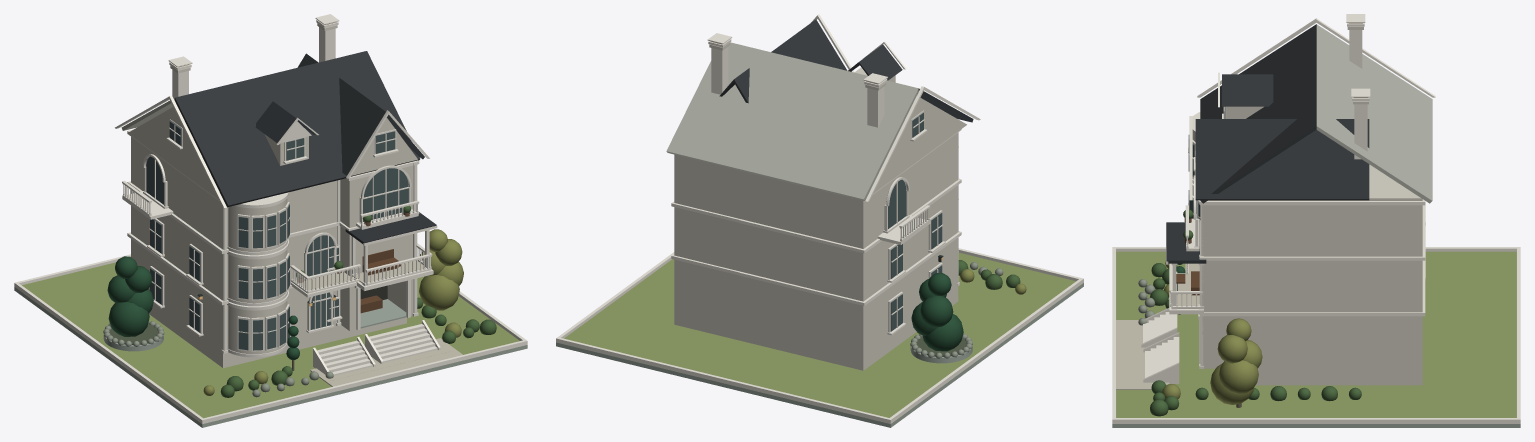
The model's file is casa-belle-epoque.glb.
3 renders of one model, left to right at view 1: azimuth 30°, elevation 25°; view 2: azimuth 150°, elevation 25°; view 3: azimuth 270°, elevation 25°, orthographic. The views are drawn at different scales.
Parts seen in each view (by area): view 1: belle-slate-main-roof-front, belle-lawn-lawn, belle-plaster-main-house, belle-plaster-front-gable-wing, belle-plaster-raised-basement, belle-slate-right-roof-west, belle-plaster-left-gable, belle-stone-lot, belle-white-boundary-y--10000, belle-paving-front-path, belle-glass-grand-front-window-glazed-arch, belle-white-boundary-x--10000 (+22 smaller); view 2: belle-plaster-main-house, belle-lawn-lawn, belle-lightRoof-main-roof-back, belle-plaster-front-gable-wing, belle-plaster-raised-basement, belle-plaster-left-gable, belle-stone-lot, belle-white-boundary-y-9820, belle-slate-right-roof-west, belle-white-boundary-x--10000, belle-white-main-cornice-4080, belle-white-main-cornice-7080 (+10 smaller); view 3: belle-plaster-front-gable-wing, belle-lawn-lawn, belle-slate-right-roof-east, belle-lightRoof-main-roof-back, belle-slate-main-roof-front, belle-plaster-raised-basement, belle-white-boundary-x-9820, belle-paving-front-path, belle-stone-lot, belle-slate-dormer-roof-right, belle-white-wing-cornice-7080, belle-white-wing-cornice-4080 (+17 smaller).
Part boxes in pixels (<box>): belle-slate-main-roof-front: <box>175,51,420,207</box>; belle-lawn-lawn: <box>22,262,519,418</box>; belle-plaster-main-house: <box>131,137,336,351</box>; belle-plaster-front-gable-wing: <box>340,161,414,330</box>; belle-plaster-raised-basement: <box>149,303,406,368</box>; belle-slate-right-roof-west: <box>297,53,385,175</box>; belle-plaster-left-gable: <box>128,107,224,202</box>; belle-stone-lot: <box>14,287,527,427</box>; belle-white-boundary-y--10000: <box>204,340,524,423</box>; belle-paving-front-path: <box>310,338,462,386</box>; belle-glass-grand-front-window-glazed-arch: <box>363,168,408,221</box>; belle-white-boundary-x--10000: <box>14,282,204,424</box>; belle-plaster-main-house: <box>743,133,958,354</box>; belle-lawn-lawn: <box>564,252,1075,417</box>; belle-lightRoof-main-roof-back: <box>666,42,918,200</box>; belle-plaster-front-gable-wing: <box>674,154,742,325</box>; belle-plaster-raised-basement: <box>674,286,958,370</box>; belle-plaster-left-gable: <box>871,98,966,193</box>; belle-stone-lot: <box>556,283,1083,427</box>; belle-white-boundary-y-9820: <box>559,338,888,423</box>; belle-slate-right-roof-west: <box>734,19,847,103</box>; belle-white-boundary-x--10000: <box>887,278,1083,423</box>; belle-white-main-cornice-4080: <box>739,231,961,305</box>; belle-white-main-cornice-7080: <box>739,179,961,253</box>; belle-plaster-front-gable-wing: <box>1202,164,1422,368</box>; belle-lawn-lawn: <box>1116,251,1516,417</box>; belle-slate-right-roof-east: <box>1195,119,1369,200</box>; belle-lightRoof-main-roof-back: <box>1316,24,1432,203</box>; belle-slate-main-roof-front: <box>1200,24,1316,203</box>; belle-plaster-raised-basement: <box>1256,368,1422,385</box>; belle-white-boundary-x-9820: <box>1112,418,1520,423</box>; belle-paving-front-path: <box>1116,320,1169,389</box>; belle-stone-lot: <box>1112,253,1520,427</box>; belle-slate-dormer-roof-right: <box>1222,74,1273,106</box>; belle-white-wing-cornice-7080: <box>1200,220,1425,260</box>; belle-white-wing-cornice-4080: <box>1200,276,1425,316</box>.
Bounding box in the file's own units: 20 × 15.66 × 20.
